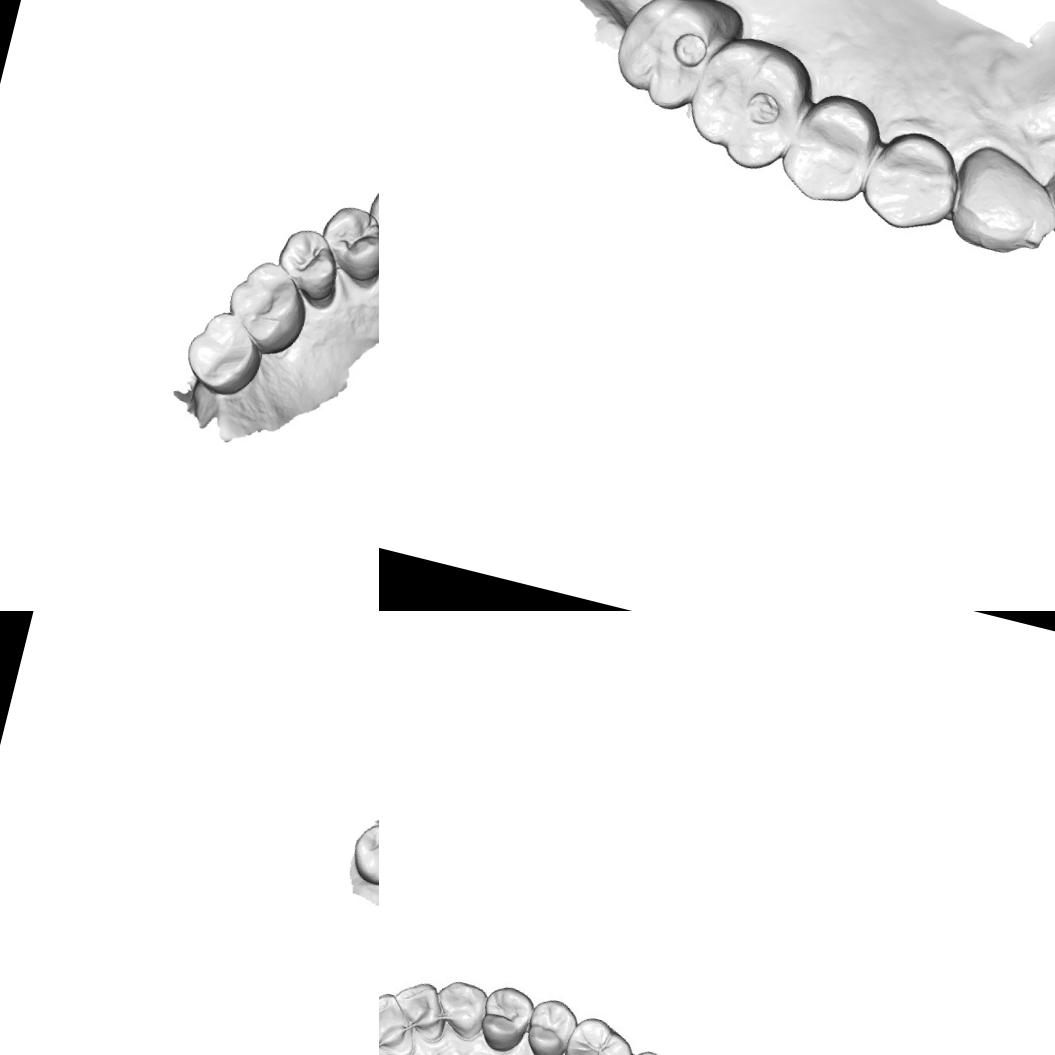canine: (941, 135, 1055, 265), (430, 974, 494, 1043), (360, 171, 379, 252)
incisor: (384, 973, 454, 1043), (379, 984, 419, 1055)
molar: (676, 23, 822, 180), (604, 0, 750, 124), (216, 253, 316, 364), (176, 302, 271, 404), (551, 1010, 641, 1055), (346, 817, 379, 895)
premolar: (773, 81, 886, 212), (854, 120, 969, 241), (262, 219, 350, 308), (309, 199, 379, 287), (472, 981, 537, 1055), (521, 995, 581, 1055)
